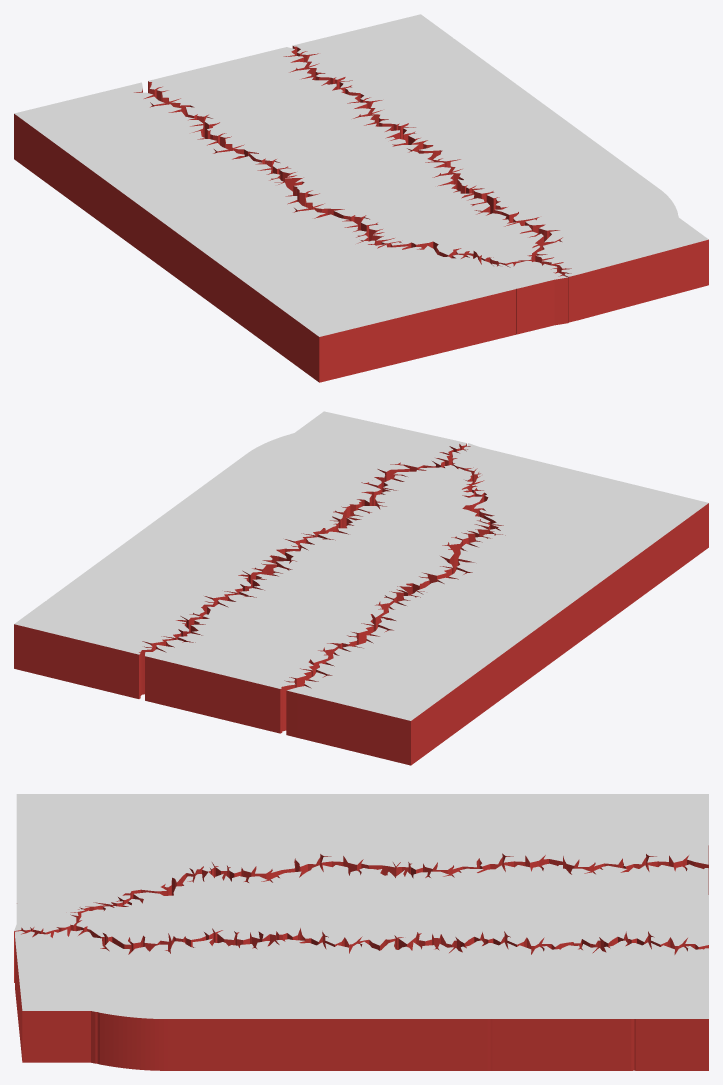
The model's file is untitlesddssdd 8.fbx.
3 views of the same model, one above another, from view 1: azimuth 30°, elevation 25°; view 2: azimuth 150°, elevation 25°; view 3: azimuth 270°, elevation 25° (orthographic). The views are drawn at different scales.
Parts seen in each view (by area): view 1: Plane.009, Plane.010, Plane.008; view 2: Plane.009, Plane.010, Plane.008; view 3: Plane.010, Plane.009, Plane.008.
Boxes of the visible parts, x1,y1,x2,y2 form: Plane.009: (14,82,516,382); Plane.010: (292,14,708,322); Plane.008: (148,47,568,334); Plane.009: (286,456,708,765); Plane.010: (14,411,466,698); Plane.008: (145,443,515,733); Plane.010: (15,929,708,1070); Plane.009: (16,794,708,925); Plane.008: (14,863,708,982).
Size of the model in its own units: 8263 by 887 by 10784.
